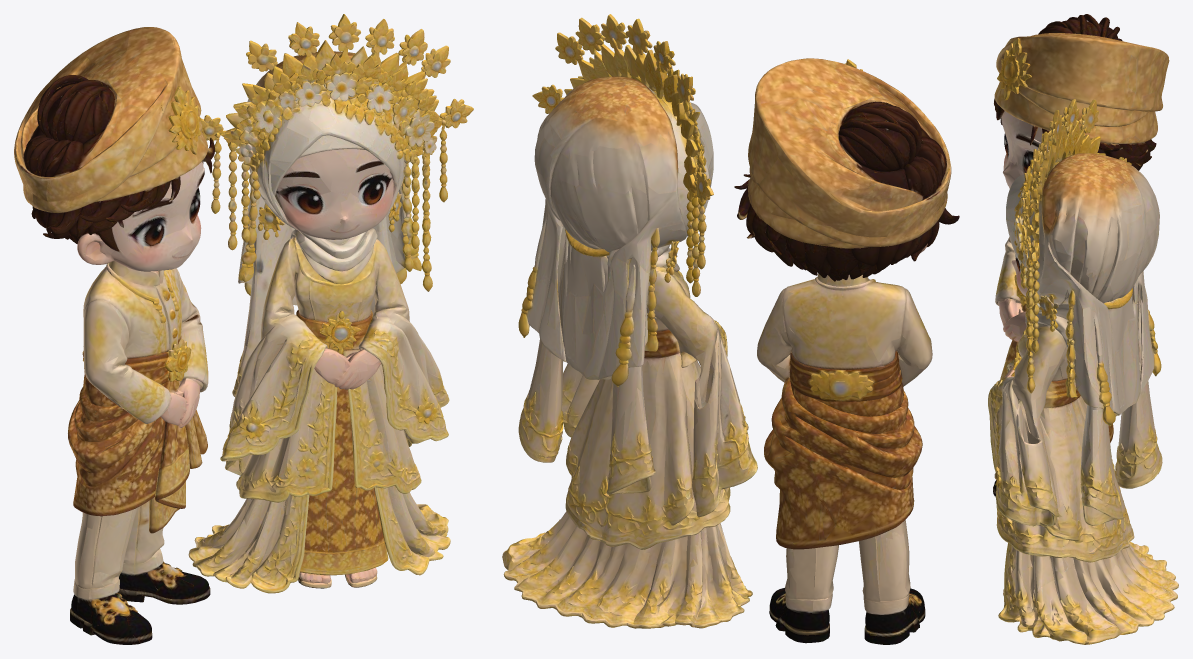
Rendered from couple.glb.
3 views of the same model, side by side, from view 1: azimuth 30°, elevation 25°; view 2: azimuth 150°, elevation 25°; view 3: azimuth 270°, elevation 25° (orthographic). The views are drawn at different scales.
Parts seen in each view (by area): view 1: output_unwrapped; view 2: output_unwrapped; view 3: output_unwrapped.
Boxes of the visible parts, x1,y1,x2,y2 form: output_unwrapped: (14, 14, 473, 644); output_unwrapped: (502, 14, 959, 644); output_unwrapped: (988, 14, 1178, 644).
Size of the model in its own units: 1.53 by 1.9 by 0.6681.
Materials: 1 (1 with a texture image).
